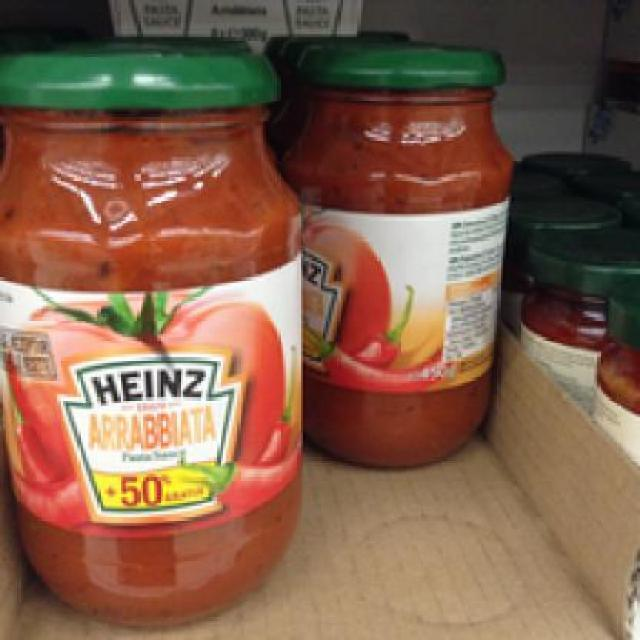Tomato Sauce: (0, 40, 303, 623), (288, 37, 514, 466)
